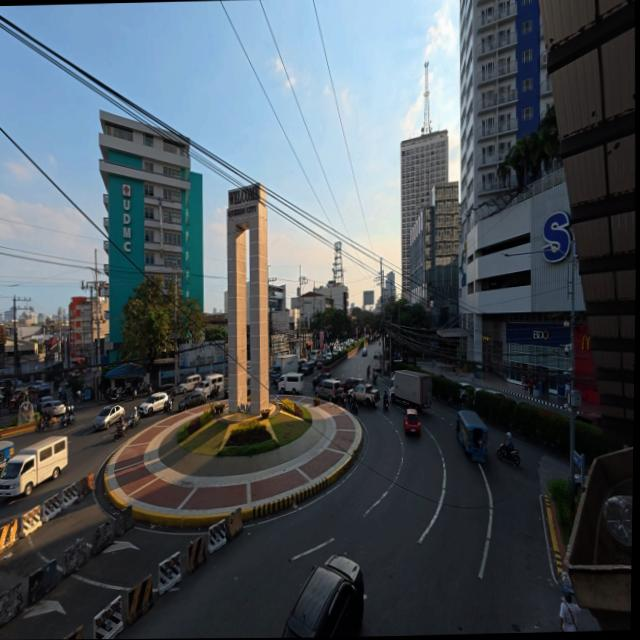car: (281, 549, 364, 638), (94, 405, 134, 438), (36, 398, 76, 429), (135, 390, 172, 415), (403, 412, 422, 436)
